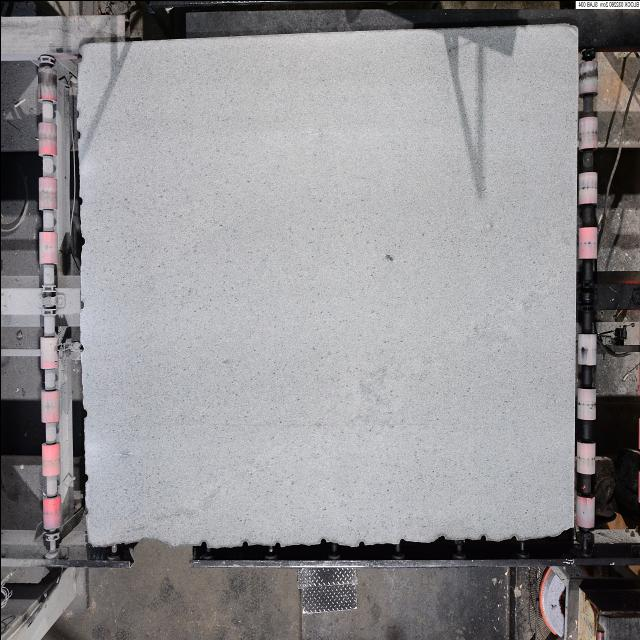chapa: (78, 24, 576, 546)
veio: (478, 532, 488, 546), (198, 538, 208, 552), (75, 194, 83, 208), (356, 538, 364, 550), (319, 536, 327, 547)
